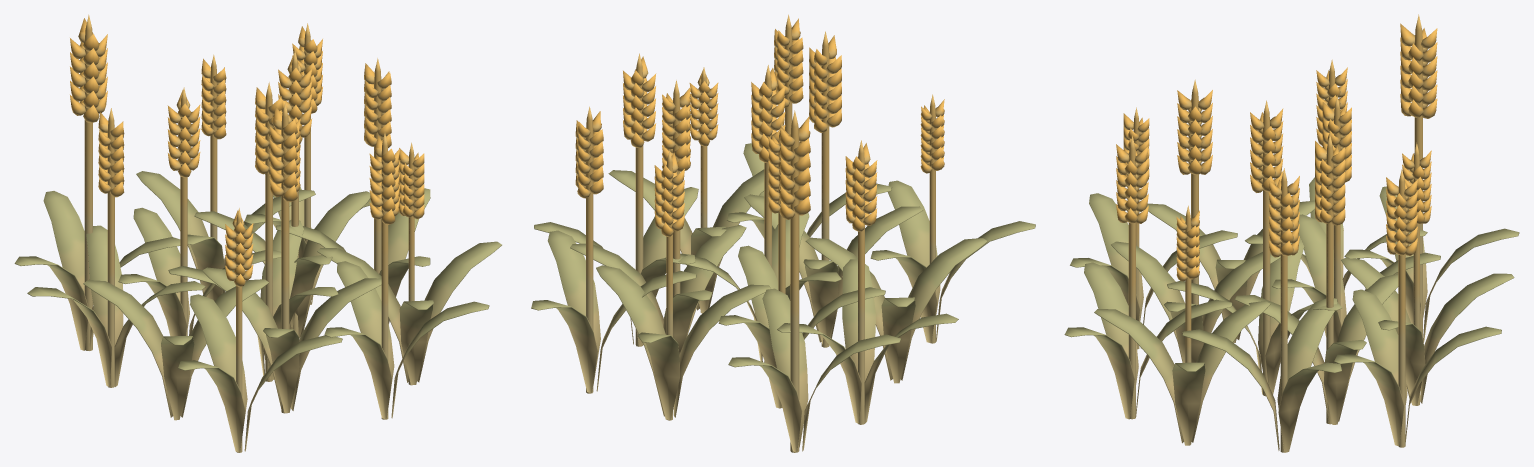
Rendered from Wheat_STAGE2.fbx.
3 views of the same model, side by side, from view 1: azimuth 30°, elevation 25°; view 2: azimuth 150°, elevation 25°; view 3: azimuth 270°, elevation 25° (orthographic). The views are drawn at different scales.
Parts seen in each view (by area): view 1: Wheat_STAGE2; view 2: Wheat_STAGE2; view 3: Wheat_STAGE2.
Boxes of the visible parts, x1,y1,x2,y2 form: Wheat_STAGE2: (14, 14, 501, 452); Wheat_STAGE2: (531, 14, 1035, 452); Wheat_STAGE2: (1064, 14, 1519, 452).
Bounding box in the file's own units: 1.25 × 1.28 × 1.
Materials: 1 (1 with a texture image).
